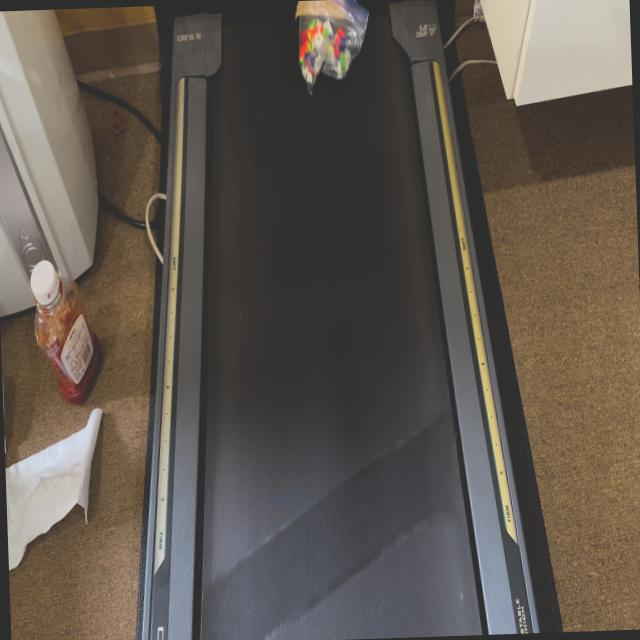Trash: (295, 0, 371, 91)
